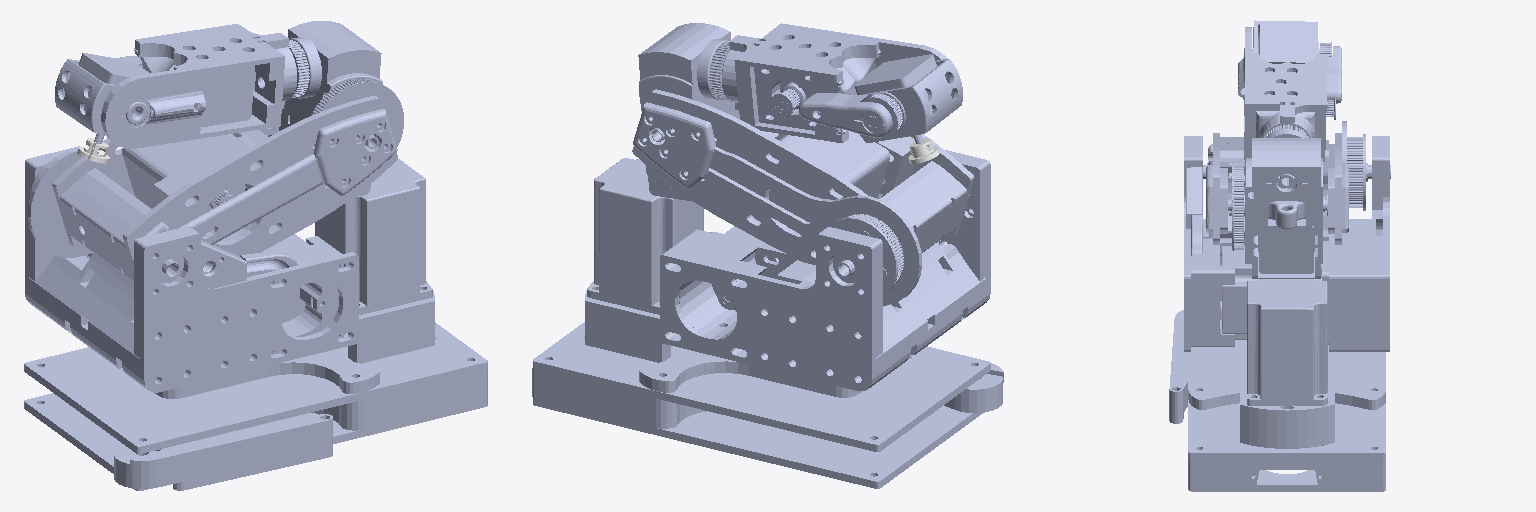
URDF robot description (veteng):
<?xml version="1.0" encoding="utf-8"?>
<!-- This URDF was automatically created by SolidWorks to URDF Exporter! Originally created by [author] ([email redacted]) 
     Commit Version: 1.5.1-0-g916b5db  Build Version: 1.5.7152.31018
     For more information, please see http://wiki.ros.org/sw_urdf_exporter -->
<robot
  name="veteng">
  <link
    name="base_link">
    <inertial>
      <origin
        xyz="0.0133287781394212 -0.0803959215331008 0.105908539082121"
        rpy="0 0 0" />
      <mass
        value="0.959701625007017" />
      <inertia
        ixx="0.00120161646964579"
        ixy="9.47107175557502E-07"
        ixz="-1.15521508056979E-05"
        iyy="0.0031196707830736"
        iyz="5.1043017955678E-07"
        izz="0.00218270244520942" />
    </inertial>
    <visual>
      <origin
        xyz="0 0 0"
        rpy="0 0 0" />
      <geometry>
        <mesh
          filename="package://veteng/meshes/base_link.STL" />
      </geometry>
      <material
        name="">
        <color
          rgba="0.792156862745098 0.819607843137255 0.933333333333333 1" />
      </material>
    </visual>
    <collision>
      <origin
        xyz="0 0 0"
        rpy="0 0 0" />
      <geometry>
        <mesh
          filename="package://veteng/meshes/base_link.STL" />
      </geometry>
    </collision>
  </link>
  <link
    name="link1">
    <inertial>
      <origin
        xyz="0.00478927450434063 -0.0249738003723574 0.00136639951462489"
        rpy="0 0 0" />
      <mass
        value="1.00188802978335" />
      <inertia
        ixx="0.00134706457274175"
        ixy="-2.55303558359948E-05"
        ixz="0.000254363710029845"
        iyy="0.00197423883560841"
        iyz="-1.3276656319934E-05"
        izz="0.00122304792046968" />
    </inertial>
    <visual>
      <origin
        xyz="0 0 0"
        rpy="0 0 0" />
      <geometry>
        <mesh
          filename="package://veteng/meshes/link1.STL" />
      </geometry>
      <material
        name="">
        <color
          rgba="0.792156862745098 0.819607843137255 0.933333333333333 1" />
      </material>
    </visual>
    <collision>
      <origin
        xyz="0 0 0"
        rpy="0 0 0" />
      <geometry>
        <mesh
          filename="package://veteng/meshes/link1.STL" />
      </geometry>
    </collision>
  </link>
  <joint
    name="joint1"
    type="revolute">
    <origin
      xyz="-0.070712 -0.10121 0"
      rpy="1.5708 0 0" />
    <parent
      link="base_link" />
    <child
      link="link1" />
    <axis
      xyz="0 1 0" />
    <limit
      lower="-3.14159"
      upper="3.14159"
      effort="0"
      velocity="0" />
  </joint>
  <link
    name="link2">
    <inertial>
      <origin
        xyz="0.0577235115476273 0.0122173255562982 0.00330289948596771"
        rpy="0 0 0" />
      <mass
        value="0.527637590551025" />
      <inertia
        ixx="0.000303744918116355"
        ixy="-9.81477977877311E-05"
        ixz="2.33634976085516E-05"
        iyy="0.000722153965777223"
        iyz="6.02525177131854E-06"
        izz="0.000737227838253702" />
    </inertial>
    <visual>
      <origin
        xyz="0 0 0"
        rpy="0 0 0" />
      <geometry>
        <mesh
          filename="package://veteng/meshes/link2.STL" />
      </geometry>
      <material
        name="">
        <color
          rgba="0.792156862745098 0.819607843137255 0.933333333333333 1" />
      </material>
    </visual>
    <collision>
      <origin
        xyz="0 0 0"
        rpy="0 0 0" />
      <geometry>
        <mesh
          filename="package://veteng/meshes/link2.STL" />
      </geometry>
    </collision>
  </link>
  <joint
    name="joint2"
    type="revolute">
    <origin
      xyz="-0.047 0.026285 0"
      rpy="0 0 0.068045" />
    <parent
      link="link1" />
    <child
      link="link2" />
    <axis
      xyz="0 0 1" />
    <limit
      lower="0"
      upper="3.14159"
      effort="0"
      velocity="0" />   
  </joint>
  <link
    name="link3">
    <inertial>
      <origin
        xyz="0.000804514258212638 -0.00242242636991309 0.00601841026906474"
        rpy="0 0 0" />
      <mass
        value="0.202089167606231" />
      <inertia
        ixx="0.000127616323878461"
        ixy="-1.04509278553002E-05"
        ixz="9.56512144855866E-07"
        iyy="7.6575048278608E-05"
        iyz="4.49838589912824E-06"
        izz="0.000109726182482566" />
    </inertial>
    <visual>
      <origin
        xyz="0 0 0"
        rpy="0 0 0" />
      <geometry>
        <mesh
          filename="package://veteng/meshes/link3.STL" />
      </geometry>
      <material
        name="">
        <color
          rgba="0.792156862745098 0.819607843137255 0.933333333333333 1" />
      </material>
    </visual>
    <collision>
      <origin
        xyz="0 0 0"
        rpy="0 0 0" />
      <geometry>
        <mesh
          filename="package://veteng/meshes/link3.STL" />
      </geometry>
    </collision>
  </link>
  <joint
    name="joint3"
    type="revolute">
    <origin
      xyz="0.15242 0.033865 0"
      rpy="0 0 0.017878" />
    <parent
      link="link2" />
    <child
      link="link3" />
    <axis
      xyz="0 0 1" />
    <limit
      lower="-3.14159"
      upper="0"
      effort="0"
      velocity="0" />
  </joint>
  <link
    name="link4">
    <inertial>
      <origin
        xyz="-0.0766105470816425 0.0132302103240282 -0.000456707769701997"
        rpy="0 0 0" />
      <mass
        value="0.193284089863767" />
      <inertia
        ixx="7.42603945943135E-05"
        ixy="2.21558065703412E-05"
        ixz="2.00914520106618E-05"
        iyy="0.00019759999791143"
        iyz="-3.47570314895815E-06"
        izz="0.000190468473453247" />
    </inertial>
    <visual>
      <origin
        xyz="0 0 0"
        rpy="0 0 0" />
      <geometry>
        <mesh
          filename="package://veteng/meshes/link4.STL" />
      </geometry>
      <material
        name="">
        <color
          rgba="0.792156862745098 0.819607843137255 0.933333333333333 1" />
      </material>
    </visual>
    <collision>
      <origin
        xyz="0 0 0"
        rpy="0 0 0" />
      <geometry>
        <mesh
          filename="package://veteng/meshes/link4.STL" />
      </geometry>
    </collision>
  </link>
  <joint
    name="joint4"
    type="revolute">
    <origin
      xyz="0.00511515068333534 0.0295607042116179 0.000399999999999484"
      rpy="-0.0234712514103992 0.00406104346427603 -4.76611396217794E-05" />
    <parent
      link="link3" />
    <child
      link="link4" />
    <axis
      xyz="0.985356807053935 -0.170505022777845 0" />
    <limit
      lower="-4.71239"
      upper="4.71239"
      effort="0"
      velocity="0" />
  </joint>
  <link
    name="link5">
    <inertial>
      <origin
        xyz="-0.000333492415400705 -0.000234704219469736 -0.00114232958057561"
        rpy="0 0 0" />
      <mass
        value="0.0818709956862019" />
      <inertia
        ixx="2.33078671624178E-05"
        ixy="2.10418865884824E-06"
        ixz="1.99324553521498E-07"
        iyy="2.75534262551125E-05"
        iyz="3.49086535480845E-07"
        izz="2.18131707895204E-05" />
    </inertial>
    <visual>
      <origin
        xyz="0 0 0"
        rpy="0 0 0" />
      <geometry>
        <mesh
          filename="package://veteng/meshes/link5.STL" />
      </geometry>
      <material
        name="">
        <color
          rgba="0.792156862745098 0.819607843137255 0.933333333333333 1" />
      </material>
    </visual>
    <collision>
      <origin
        xyz="0 0 0"
        rpy="0 0 0" />
      <geometry>
        <mesh
          filename="package://veteng/meshes/link5.STL" />
      </geometry>
    </collision>
  </link>
  <joint
    name="joint5"
    type="revolute">
    <origin
      xyz="-0.15075929587221 0.0260872173335035 0"
      rpy="0 0 -0.0858986192563073" />
    <parent
      link="link4" />
    <child
      link="link5" />
    <axis
      xyz="0 0 1" />
    <limit
      lower="-3.14159"
      upper="1.0472"
      effort="0"
      velocity="0" />
  </joint>
  <link
    name="link6">
    <inertial>
      <origin
        xyz="-0.0151805934319221 -5.38180611187045E-13 -0.000522684600012618"
        rpy="0 0 0" />
      <mass
        value="0.00165627299103346" />
      <inertia
        ixx="6.54668918164806E-08"
        ixy="1.65536449179151E-18"
        ixz="8.71962988889806E-10"
        iyy="4.73816828916121E-08"
        iyz="-1.11416248883605E-17"
        izz="4.69298287677944E-08" />
    </inertial>
    <visual>
      <origin
        xyz="0 0 0"
        rpy="0 0 0" />
      <geometry>
        <mesh
          filename="package://veteng/meshes/link6.STL" />
      </geometry>
      <material
        name="">
        <color
          rgba="1 1 1 1" />
      </material>
    </visual>
    <collision>
      <origin
        xyz="0 0 0"
        rpy="0 0 0" />
      <geometry>
        <mesh
          filename="package://veteng/meshes/link6.STL" />
      </geometry>
    </collision>
  </link>
  <joint
    name="joint6"
    type="revolute">
    <origin
      xyz="-0.00767333480684568 -0.0191935609570401 0"
      rpy="-0.844697508540915 0 1.19279513085328" />
    <parent
      link="link5" />
    <child
      link="link6" />
    <axis
      xyz="1 0 0" />
    <limit
      lower="-3.14159"
      upper="3.14159"
      effort="0"
      velocity="0" />
  </joint>
</robot>

--- Facts derived from the render (not from the file) ---
3 views of the same robot in one strip: view 1: azimuth 30°, elevation 25°; view 2: azimuth 150°, elevation 25°; view 3: azimuth 270°, elevation 25° (orthographic).
Model veteng with 7 links and 6 joints (6 revolute), rooted at base_link, posed every joint at zero.
Links seen in each view (by area): view 1: base_link, link1, link2, link4, link3, link5, link6; view 2: base_link, link1, link2, link4, link5, link3, link6; view 3: base_link, link1, link3, link4, link2, link5.
Boxes of the visible links, x1=… form: base_link: x1=24, y1=159, x2=487, y2=490; link1: x1=25, y1=146, x2=358, y2=392; link2: x1=28, y1=95, x2=397, y2=281; link4: x1=79, y1=24, x2=321, y2=148; link3: x1=268, y1=21, x2=403, y2=196; link5: x1=55, y1=53, x2=151, y2=151; link6: x1=77, y1=138, x2=109, y2=163; base_link: x1=532, y1=158, x2=1003, y2=488; link1: x1=660, y1=150, x2=990, y2=390; link2: x1=632, y1=89, x2=974, y2=305; link4: x1=697, y1=23, x2=947, y2=142; link5: x1=854, y1=54, x2=962, y2=143; link3: x1=638, y1=23, x2=739, y2=200; link6: x1=908, y1=138, x2=940, y2=163; base_link: x1=1169, y1=279, x2=1385, y2=491; link1: x1=1184, y1=136, x2=1389, y2=351; link3: x1=1228, y1=138, x2=1327, y2=278; link4: x1=1238, y1=27, x2=1341, y2=195; link2: x1=1203, y1=121, x2=1390, y2=244; link5: x1=1252, y1=20, x2=1332, y2=63.
Bounding box of the posed robot: 0.2599 × 0.1565 × 0.2584 m (x, y, z).
Meshes: 7 distinct files referenced, 7 mesh visuals loaded (7 binary STL).